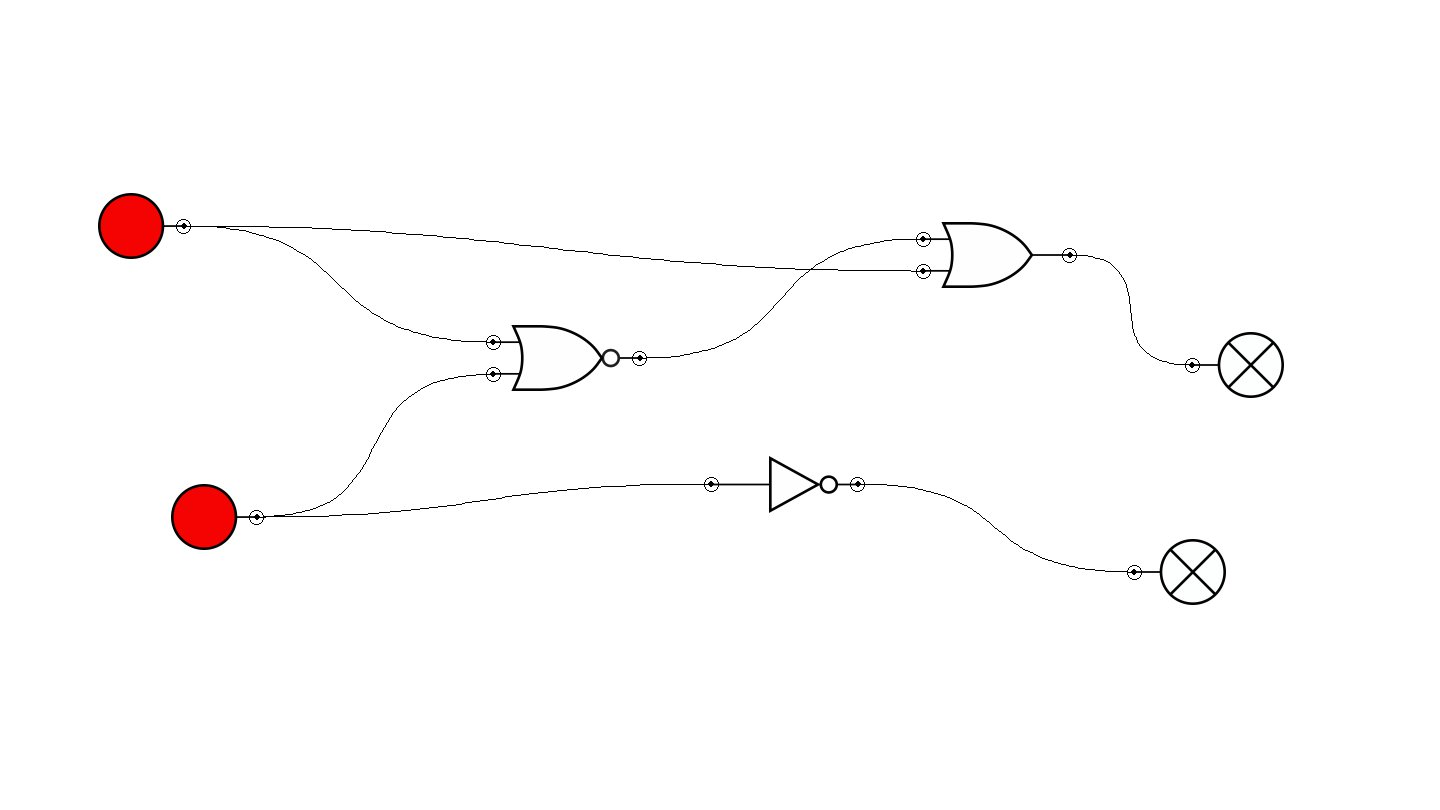bulb: (1127, 539, 1226, 605), (1185, 332, 1284, 398)
nor: (486, 325, 647, 391)
not: (704, 456, 865, 513)
or: (916, 222, 1077, 288)
switch_False: (171, 484, 264, 550), (98, 193, 191, 259)
